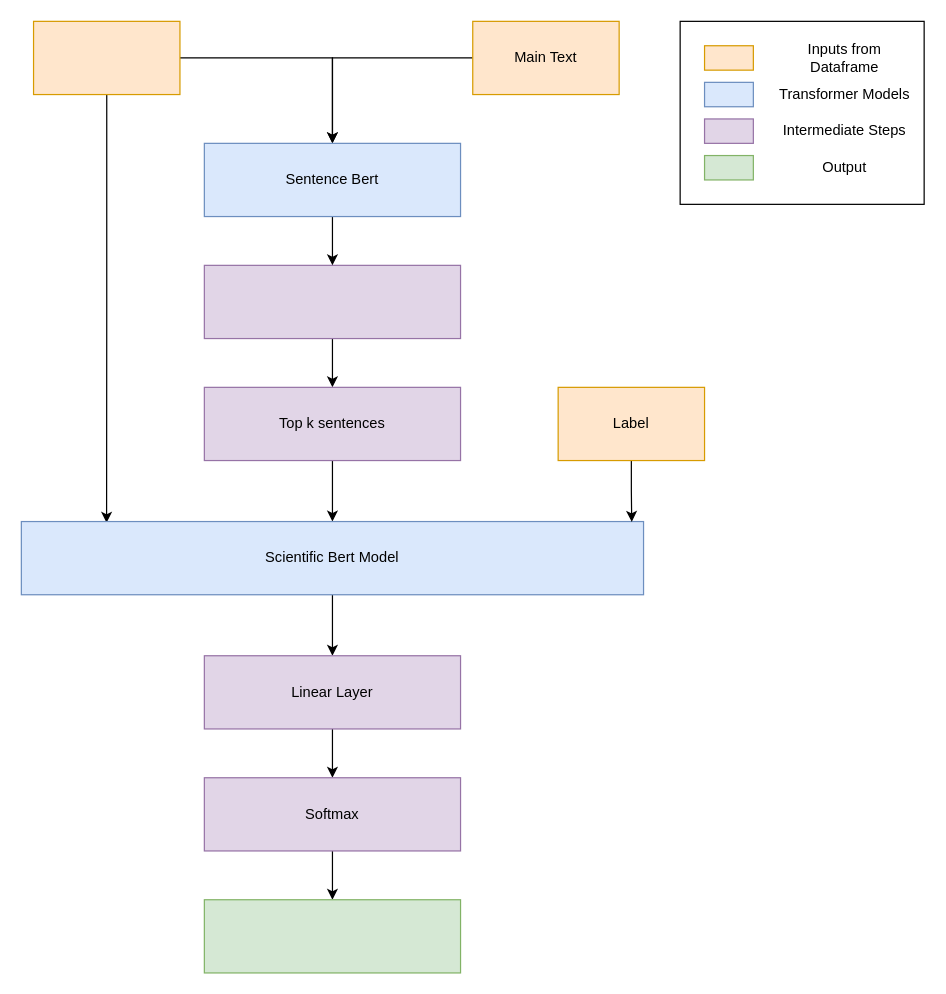
Some shapes in this 946 by 994 pixel diagram are drawn without their labels. Each missing label, with the box of its shape:
Claim Sentence: (32, 20, 180, 95)
Cosine Similarity to get top k sentences: (203, 264, 461, 339)
Probability for classes: (203, 899, 461, 973)
